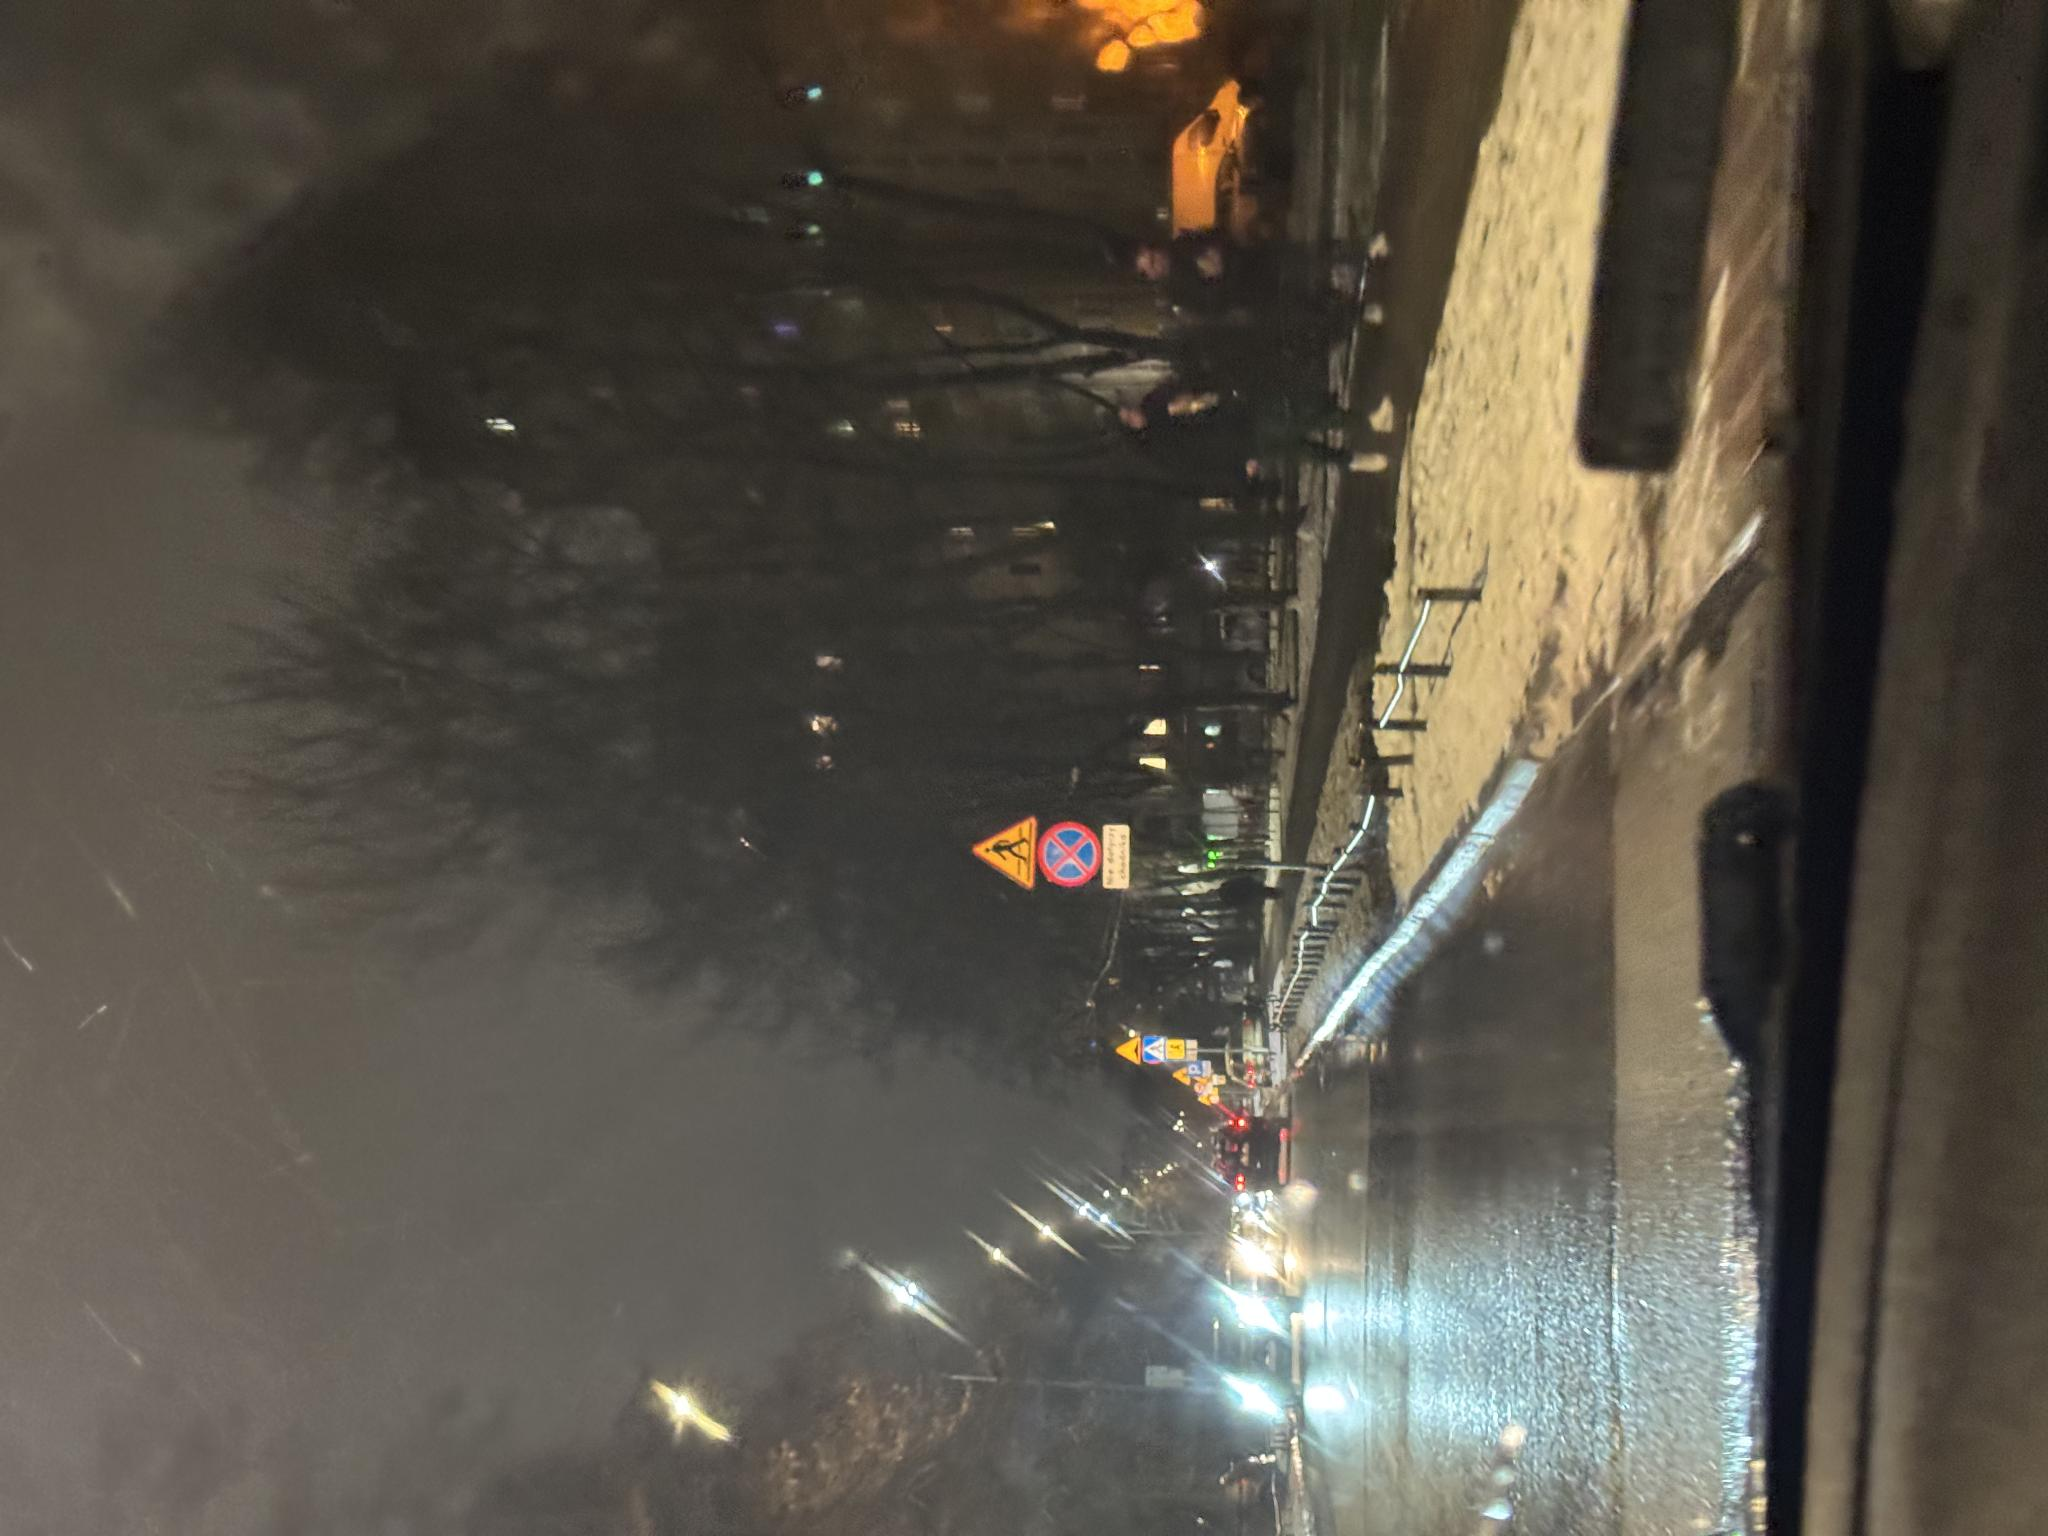information: (474, 1142, 500, 1165)
other: (647, 1102, 713, 1129), (476, 1165, 498, 1184)
prohibitory: (648, 1037, 714, 1100)
warning: (647, 973, 719, 1037), (472, 1117, 500, 1142)
